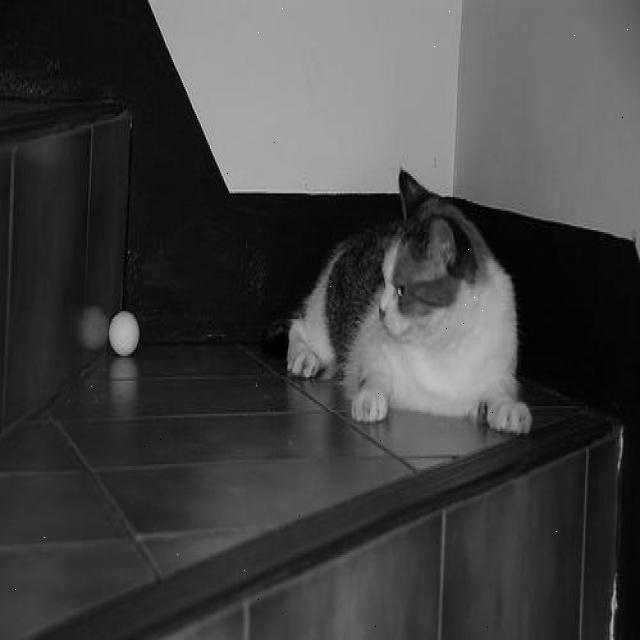ping-pong-ball: (107, 308, 141, 358)
